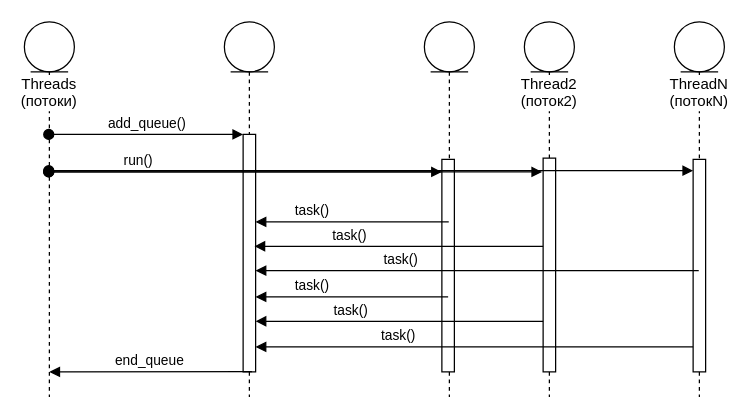
Some shapes in this 750 by 419 pixel diagram are drawn without their labels. The box of each missing label's shape, as (x1, y1, x2, y2) in pixels:
Queue (очередь): (223, 21, 274, 397)
Thread1 (поток1): (423, 21, 474, 397)
